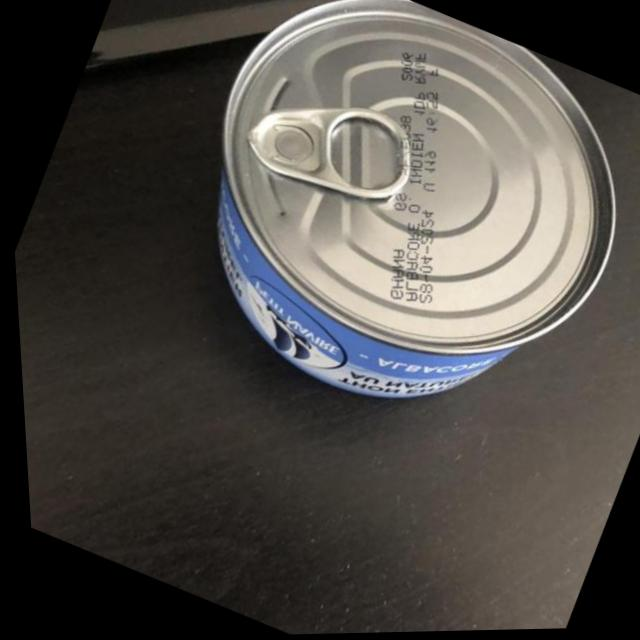metal: (143, 13, 639, 492)
